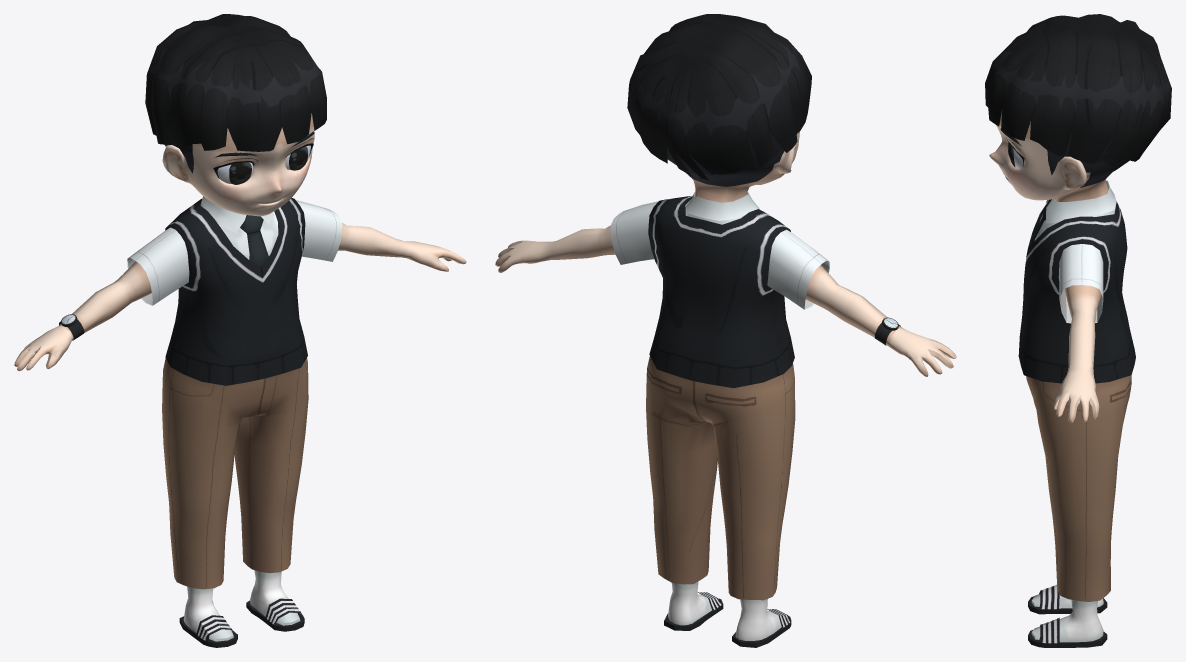
The picture shows the model from 3 angles, left to right: view 1: azimuth 30°, elevation 25°; view 2: azimuth 150°, elevation 25°; view 3: azimuth 270°, elevation 25°; orthographic projection. The views are drawn at different scales.
Parts seen in each view (by area): view 1: Plane001; view 2: Plane001; view 3: Plane001.
Part boxes in pixels (x1,y1,x2,y2): Plane001: (14,14,466,647); Plane001: (495,14,956,647); Plane001: (985,14,1171,647).
Bounding box in the file's own units: 112 × 142 × 40.07.
